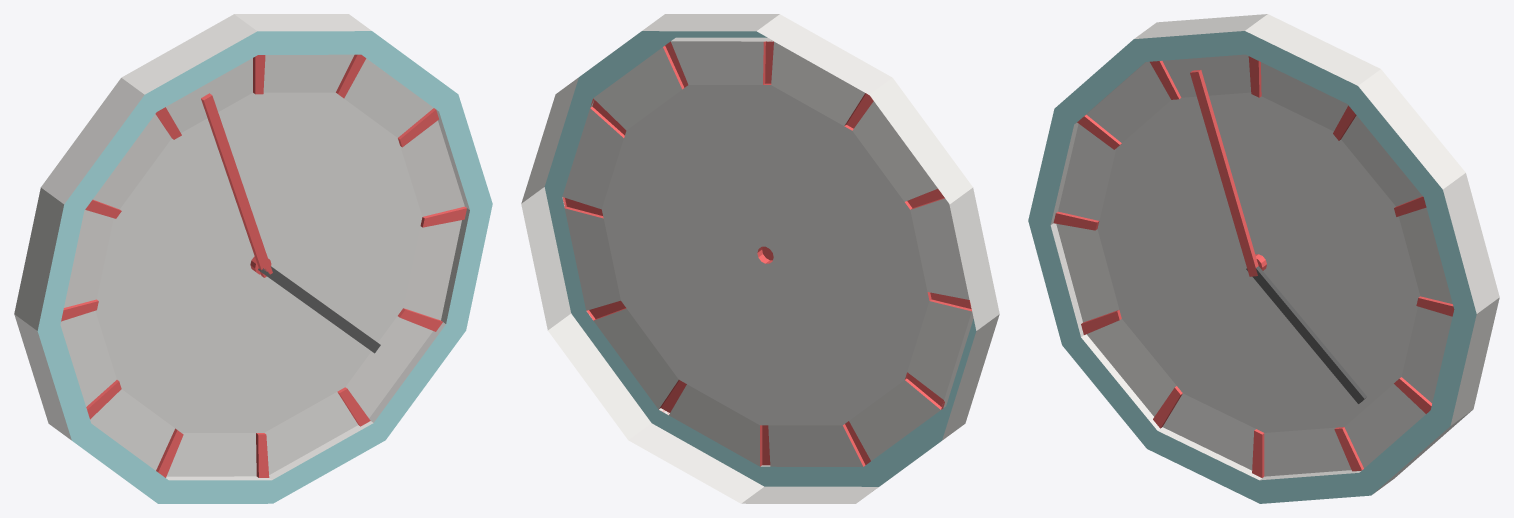
File: ELT0110044.fbx
3 views of the same model, side by side, from view 1: azimuth 30°, elevation 25°; view 2: azimuth 150°, elevation 25°; view 3: azimuth 330°, elevation 25° (orthographic).
Parts seen in each view (by area): view 1: smELT0110044; view 2: smELT0110044; view 3: smELT0110044.
Part boxes in pixels (x1,y1,x2,y2): smELT0110044: (14,14,492,503); smELT0110044: (521,14,999,503); smELT0110044: (1028,14,1499,503).
Bounding box in the file's own units: 48.24 × 48.24 × 4.49.
1 material, 1 textured.
